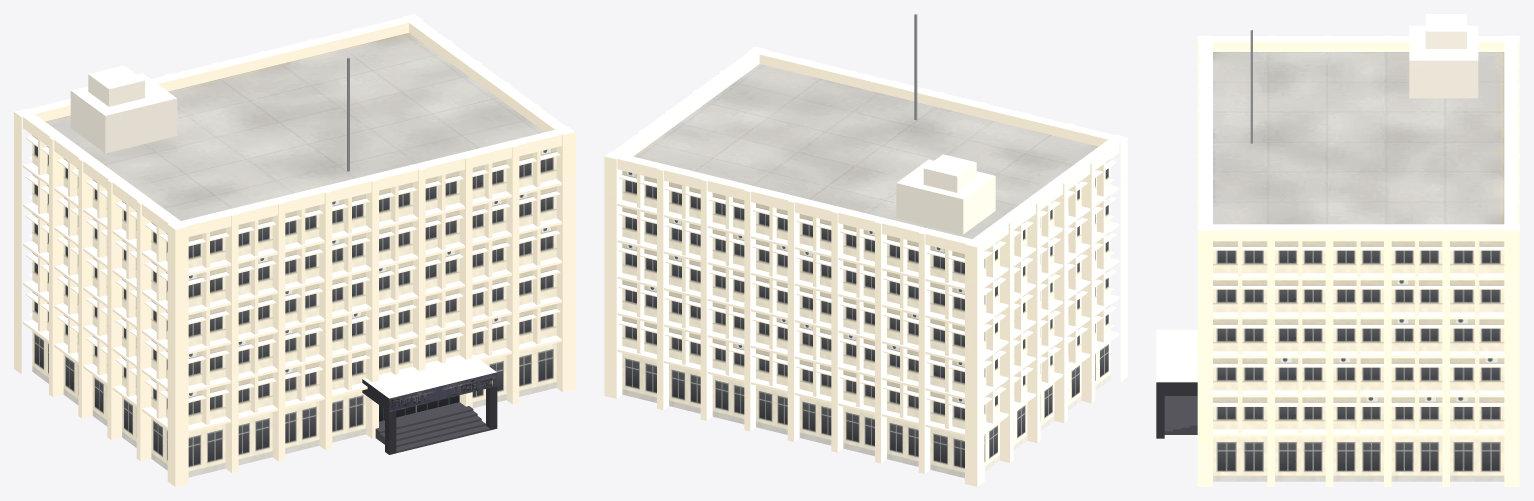
The model's file is secretariat.glb.
3 renders of one model, left to right at view 1: azimuth 30°, elevation 25°; view 2: azimuth 150°, elevation 25°; view 3: azimuth 270°, elevation 25°, orthographic. The views are drawn at different scales.
Visible parts, largest first — view 1: Secretariat; view 2: Secretariat; view 3: Secretariat.
Part boxes in pixels (x1,y1,x2,y2): Secretariat: (14, 14, 575, 486); Secretariat: (604, 14, 1127, 486); Secretariat: (1156, 14, 1519, 486).
Bounding box in the file's own units: 33.43 × 28.7 × 26.32.
Materials: 1 (1 with a texture image).
